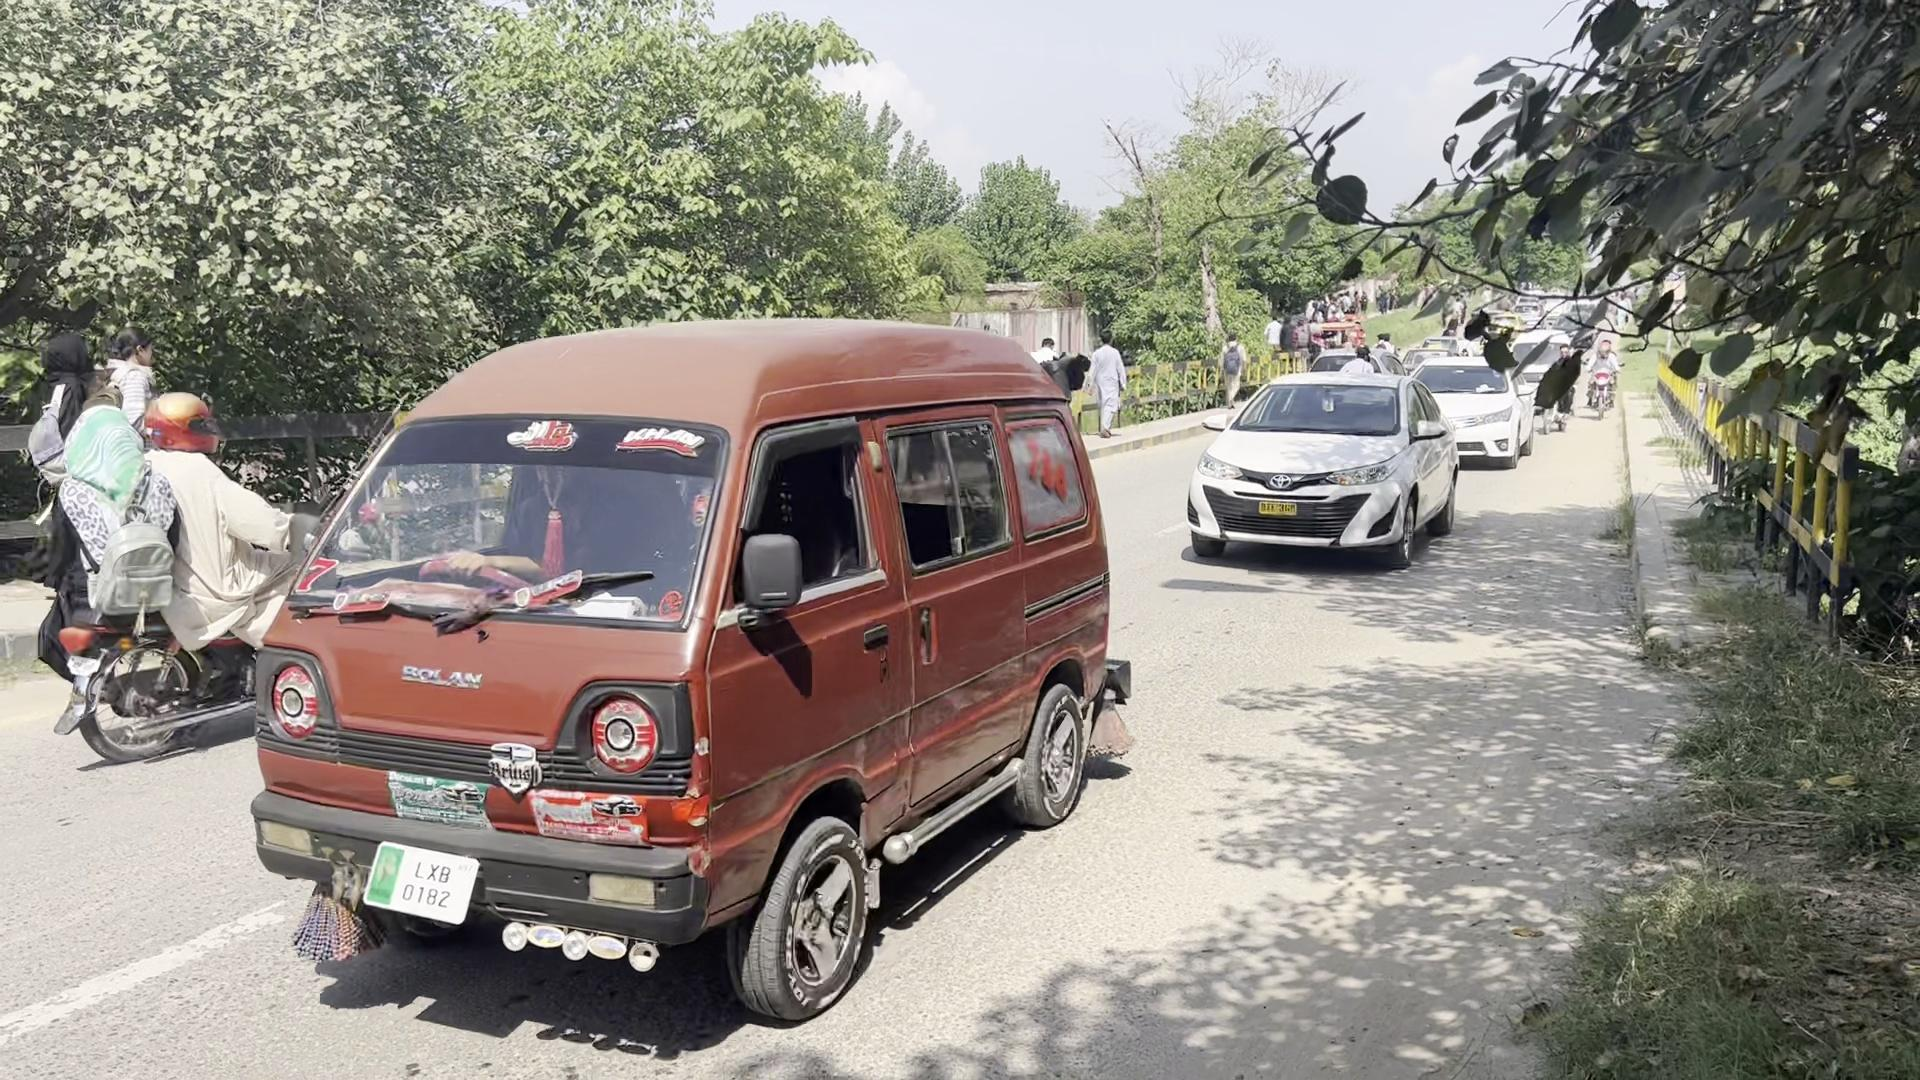windshield: (287, 406, 728, 633), (1229, 378, 1402, 438)
